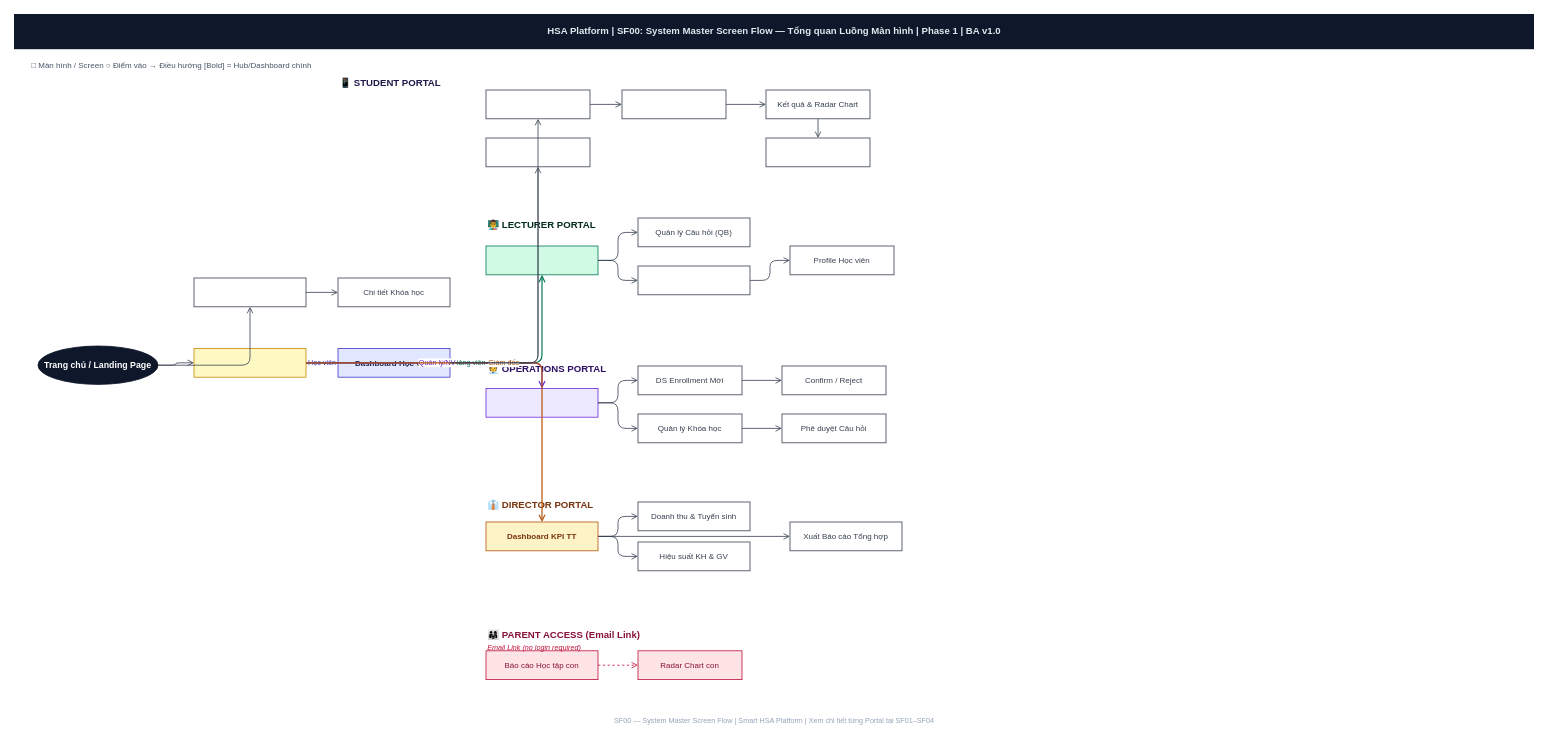
Image size: 1547x747. Some labels were removed from this diagram. Each missing label, with the box of its shape:
Dashboard Giảng viên: (485, 245, 598, 275)
Dashboard Khóa học: (637, 265, 750, 295)
Dashboard Vận hành: (485, 388, 598, 417)
DS Khóa học & GV (Public): (193, 277, 306, 307)
Giao diện Thi Thử: (621, 89, 726, 119)
Gợi ý AI Adaptive: (765, 137, 870, 167)
Khóa học của tôi: (485, 89, 590, 119)
Trang Đăng nhập: (193, 348, 306, 377)
Trạng thái ĐK: (485, 137, 590, 167)
